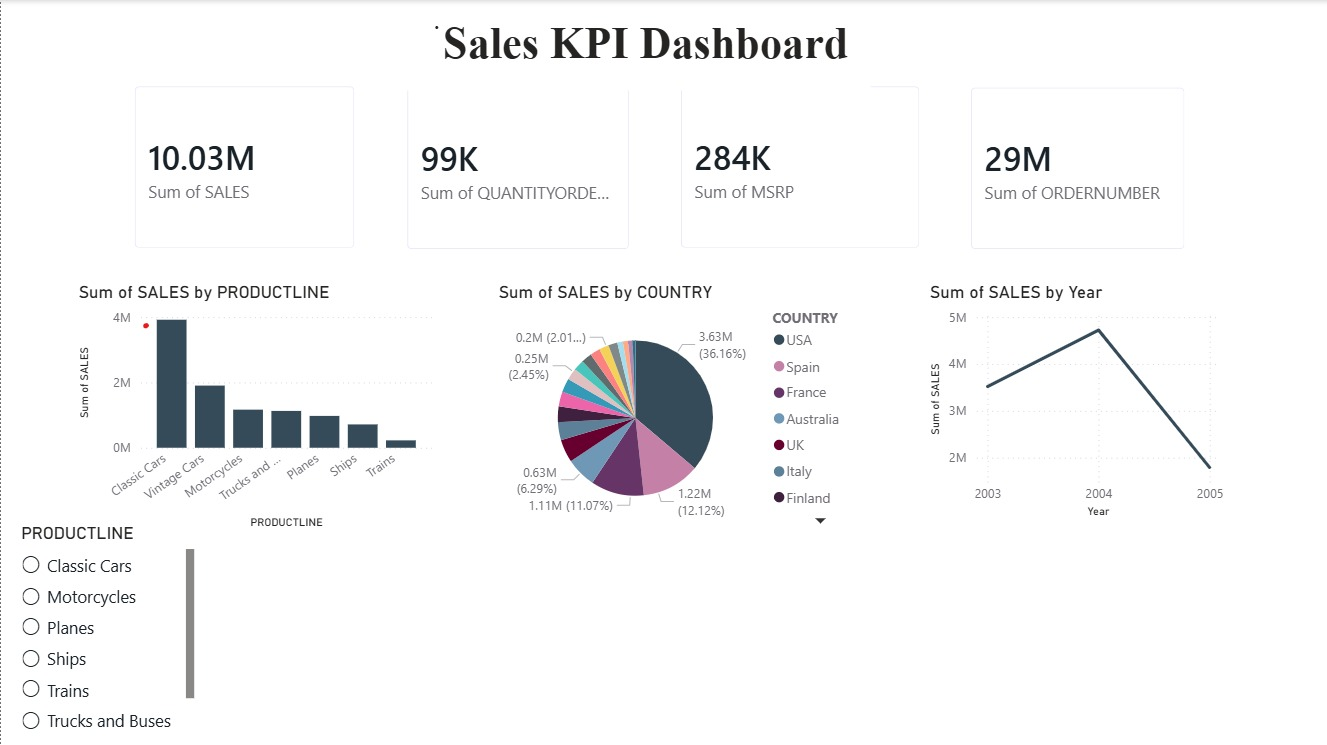

The page's visual inventory and layout, read from the dashboard file:
{"tool":"powerbi","page":{"name":"Page 1","canvas":[1280,720],"ordinal":0},"visuals":[{"type":"cardVisual","fields":{"Data":["Sum(sales_data_sample.SALES)"]},"box":[112,66.1,246.9,190.2],"z":0},{"type":"cardVisual","fields":{"Data":["Sum(sales_data_sample.QUANTITYORDERED)"]},"box":[375,67.5,248.2,190.2],"z":1000},{"type":"cardVisual","fields":{"Data":["Sum(sales_data_sample.MSRP)"]},"box":[639.5,66.1,264.4,190.2],"z":2000},{"type":"cardVisual","fields":{"Data":["Sum(sales_data_sample.ORDERNUMBER)"]},"box":[918.7,67.5,240.1,190.2],"z":3000},{"type":"clusteredColumnChart","fields":{"Category":["sales_data_sample.PRODUCTLINE"],"Y":["Sum(sales_data_sample.SALES)"]},"box":[70,271.4,351.1,243.7],"z":4000},{"type":"pieChart","fields":{"Category":["sales_data_sample.COUNTRY"],"Y":["Sum(sales_data_sample.SALES)"]},"box":[475.3,271.4,364.3,243.7],"z":5000},{"type":"lineChart","fields":{"Category":["sales_data_sample.ORDERDATE.Variation.Date Hierarchy.Year","sales_data_sample.ORDERDATE.Variation.Date Hierarchy.Quarter","sales_data_sample.ORDERDATE.Variation.Date Hierarchy.Month","sales_data_sample.ORDERDATE.Variation.Date Hierarchy.Day"],"Y":["Sum(sales_data_sample.SALES)"]},"box":[891.6,271.4,293.2,232.8],"z":6000},{"type":"textbox","box":[387.2,12.1,451.9,75.5],"z":7000},{"type":"listSlicer","fields":{"Values":["sales_data_sample.PRODUCTLINE"]},"box":[14.5,504.3,177.3,205.1],"z":8000}]}

Visuals, with their boxes in screenshot pixels (x1, y1, x2, y2), scaled from the page's 1280x720 canvas onto the 1327x745 screenshot:
cardVisual - Sum(sales_data_sample.SALES): crop(116, 68, 372, 265)
cardVisual - Sum(sales_data_sample.QUANTITYORDERED): crop(389, 70, 646, 267)
cardVisual - Sum(sales_data_sample.MSRP): crop(663, 68, 937, 265)
cardVisual - Sum(sales_data_sample.ORDERNUMBER): crop(952, 70, 1201, 267)
clusteredColumnChart - sales_data_sample.PRODUCTLINE x Sum(sales_data_sample.SALES): crop(73, 281, 437, 533)
pieChart - sales_data_sample.COUNTRY x Sum(sales_data_sample.SALES): crop(493, 281, 870, 533)
lineChart - sales_data_sample.ORDERDATE.Variation.Date Hierarchy.Year x sales_data_sample.ORDERDATE.Variation.Date Hierarchy.Quarter: crop(924, 281, 1228, 522)
textbox: crop(401, 13, 870, 91)
listSlicer - sales_data_sample.PRODUCTLINE: crop(15, 522, 199, 734)
